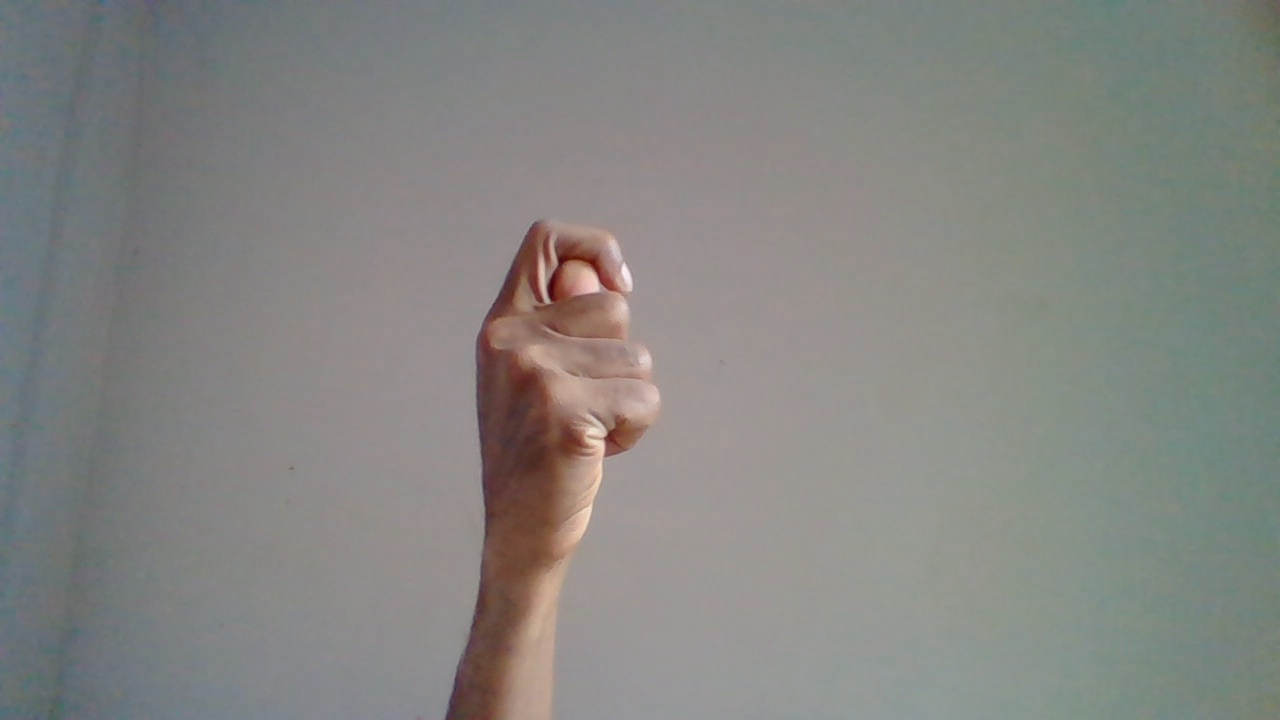che: (463, 216, 670, 720)
